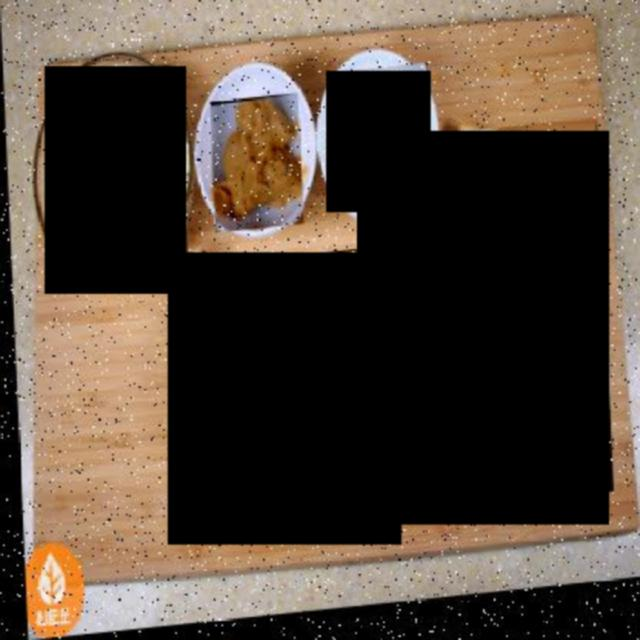Banana: (168, 253, 402, 544)
Bread: (357, 130, 609, 524)
Butter: (326, 72, 431, 213)
Cheese: (45, 67, 186, 295)
